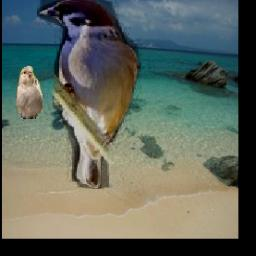Sparrow: (38, 0, 142, 189), (17, 64, 43, 124)
